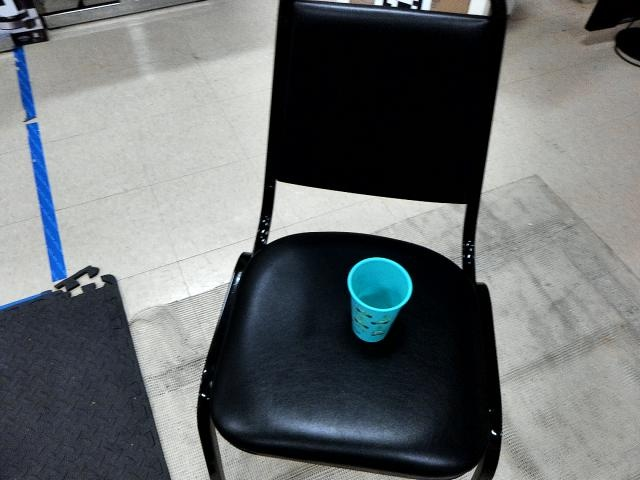coffee_cup: (347, 256, 412, 345)
